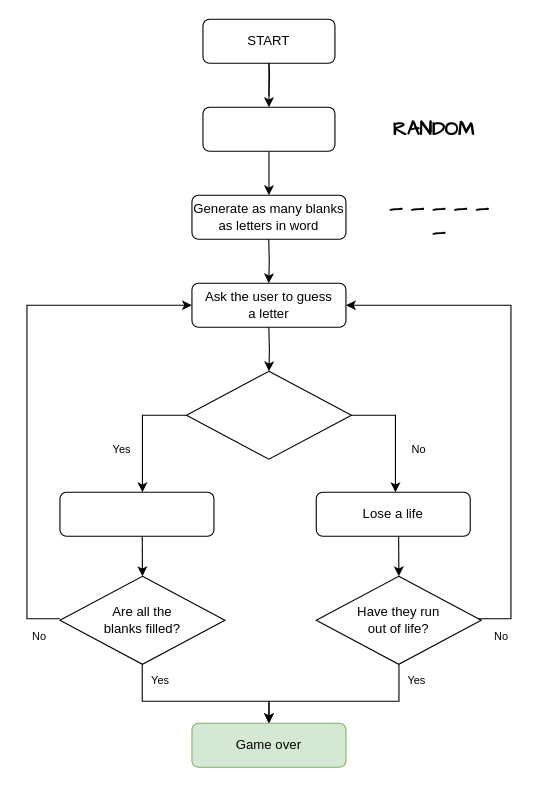
Some shapes in this 539 by 787 pixel diagram are drawn without their labels. Here are the shapes that lost their labels. From the top down, the centre of each, then its label:
At (268,128): "Generate a random word".
At (268,414): "is the guessed letter in the word?".
At (136,513): "Replace the blank with the input letter".
